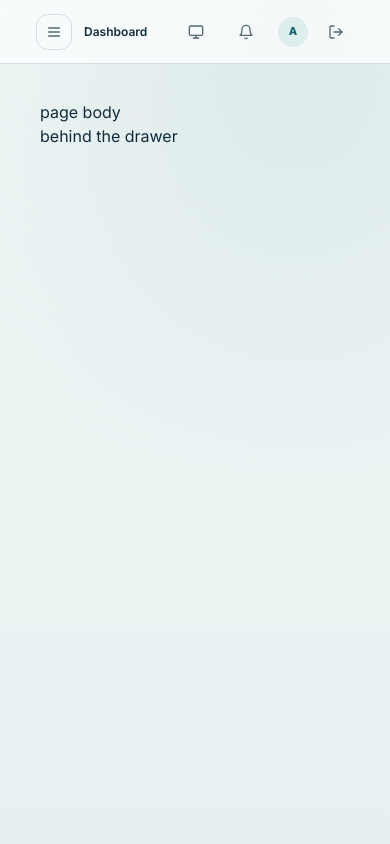
the off-canvas drawer › announces itself as a modal dialog
This screenshot has width=390, height=844.
Click the button named "Open navigation": click(54, 32) 36,14 -> 72,50
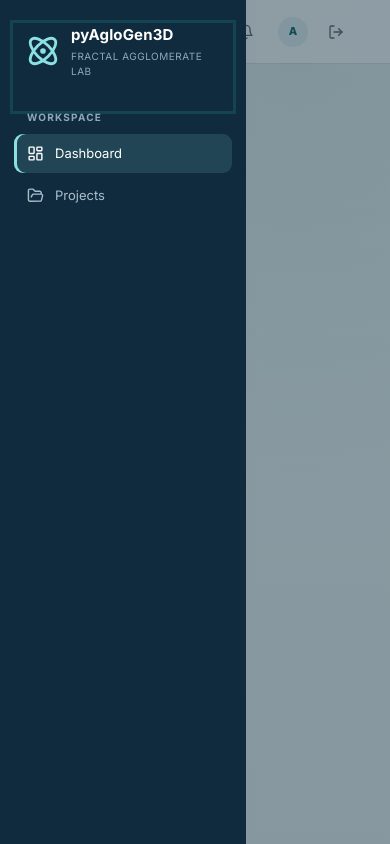
Now the dialog named "Navigation" is shown
